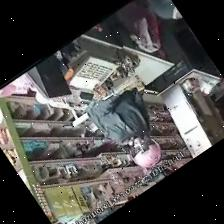person: (87, 88, 160, 166), (147, 0, 199, 43), (147, 0, 181, 18)
